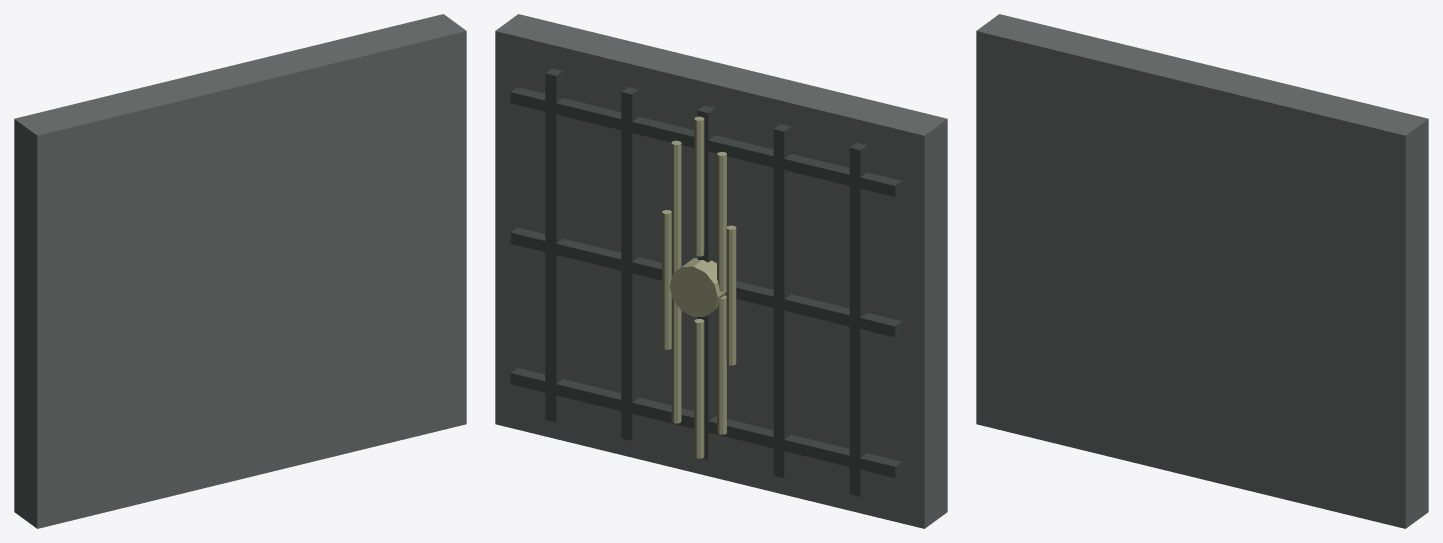
The model's file is blast_door.glb.
The picture shows the model from 3 angles, left to right: view 1: azimuth 30°, elevation 25°; view 2: azimuth 150°, elevation 25°; view 3: azimuth 330°, elevation 25°; orthographic projection.
Parts seen in each view (by area): view 1: door_0; view 2: door_0, brace_8, brace_6, rib_4, rib_2, rib_1, rib_5, brace_7, rib_3, wheelhub_9, wheelspoke_12, wheelspoke_14 (+6 smaller); view 3: door_0.
Part boxes in pixels (x1,y1,x2,y2): door_0: (14, 14, 466, 528); door_0: (495, 14, 947, 528); brace_8: (510, 87, 902, 196); brace_6: (510, 368, 902, 477); rib_4: (621, 87, 639, 440); rib_2: (773, 124, 791, 477); rib_1: (849, 142, 867, 496); rib_5: (545, 68, 562, 422); brace_7: (510, 227, 902, 337); rib_3: (697, 105, 715, 459); wheelhub_9: (669, 258, 726, 316); wheelspoke_12: (694, 116, 704, 256); wheelspoke_14: (726, 225, 736, 365); door_0: (976, 14, 1428, 528).
Bounding box in the file's own units: 4.8 × 4.2 × 0.765.
